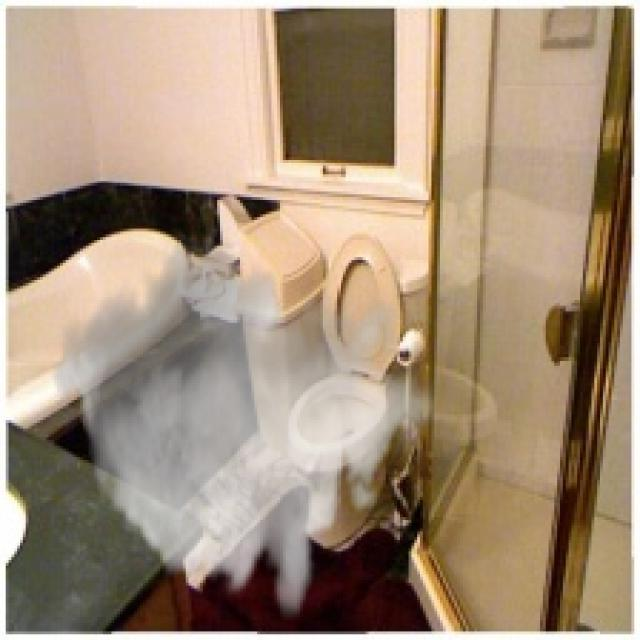Smoke: (49, 228, 438, 623)
